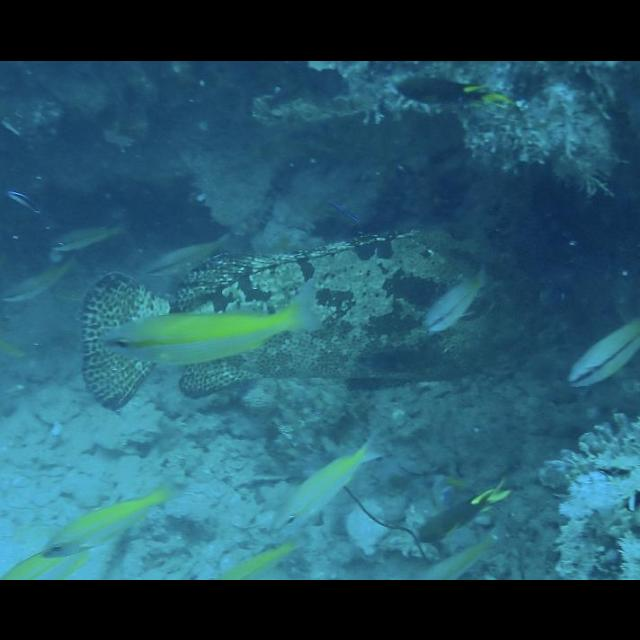Groupers: (79, 224, 584, 408)
